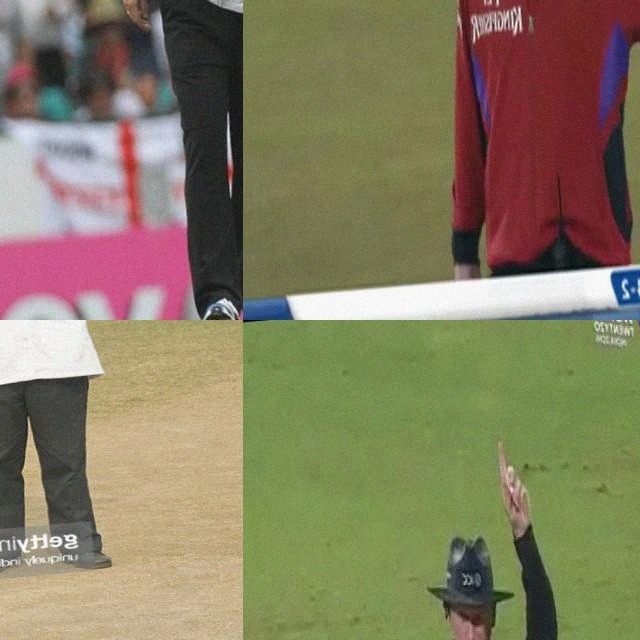No_Ball: (381, 0, 640, 283), (69, 0, 243, 320)
Out: (363, 423, 581, 640)
Six: (0, 320, 191, 587)
